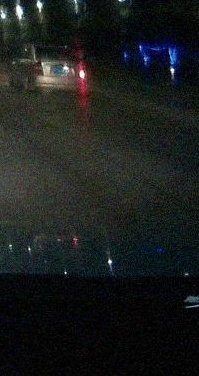L_light: (32, 61, 44, 76)
R_light: (75, 63, 87, 78)
T_light: (48, 46, 60, 49)
night-right: (29, 43, 87, 95)
